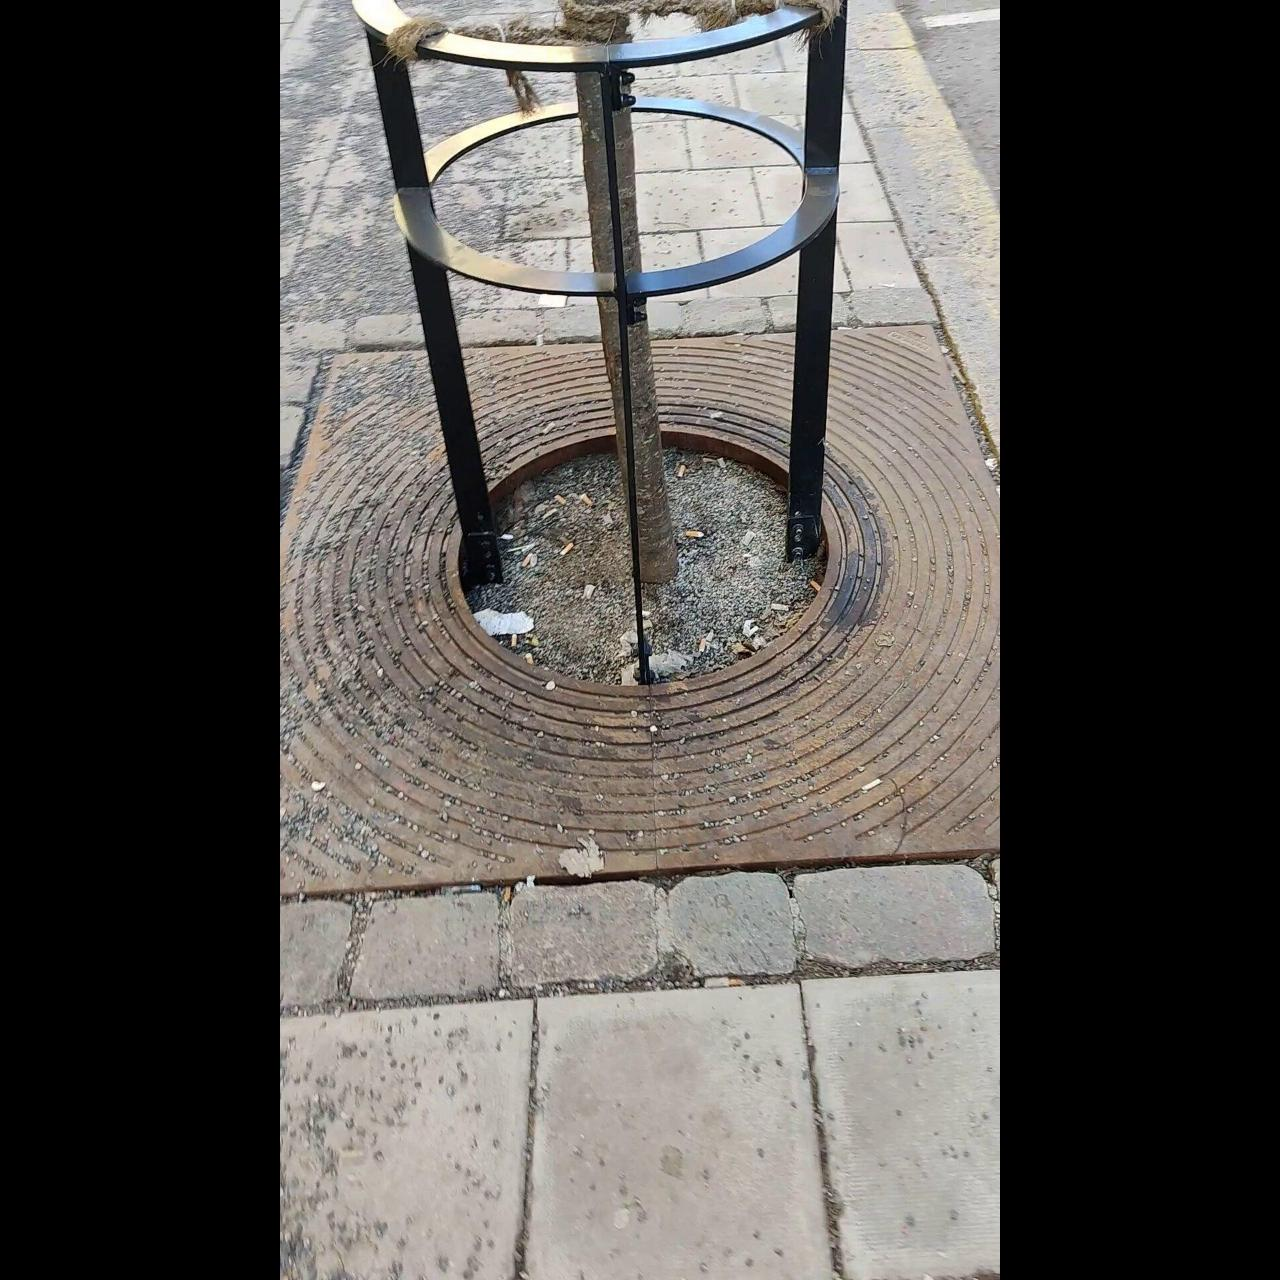cigarettes_butts: (859, 780, 882, 794), (808, 580, 822, 594), (560, 544, 576, 556), (686, 530, 704, 540), (525, 649, 535, 666), (581, 493, 593, 507), (522, 552, 534, 566), (510, 633, 520, 647), (678, 465, 686, 479), (698, 641, 706, 655), (556, 497, 564, 505)
others: (580, 583, 596, 603), (742, 531, 754, 547), (718, 454, 728, 472), (771, 601, 789, 611)
